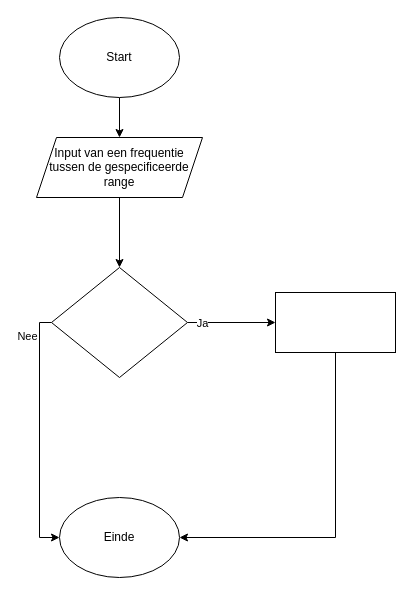
This 413x595 diagram has some shape labels left out. The box of each missing label's shape, as (x1, y1, x2, y2) in pixels:
Genereer een animatie of kies een bestaande: (274, 292, 396, 352)
Input boven drempelwaarde?: (50, 266, 188, 378)
